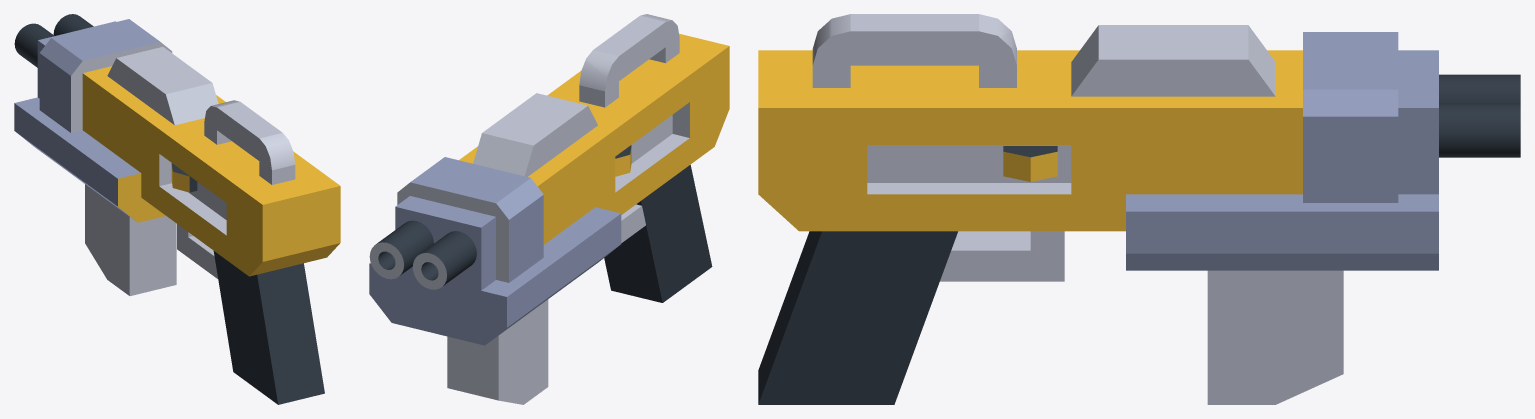
The model's file is blasterJ.obj.
3 views of the same model, side by side, from view 1: azimuth 30°, elevation 25°; view 2: azimuth 150°, elevation 25°; view 3: azimuth 270°, elevation 25° (orthographic). The views are drawn at different scales.
Visible parts, largest first — view 1: blasterJ; view 2: blasterJ; view 3: blasterJ.
Part boxes in pixels (x1,y1,x2,y2): blasterJ: (14, 14, 340, 404); blasterJ: (369, 14, 729, 404); blasterJ: (758, 14, 1520, 404).
Size of the model in its own units: 0.16 by 0.2959 by 0.56.
